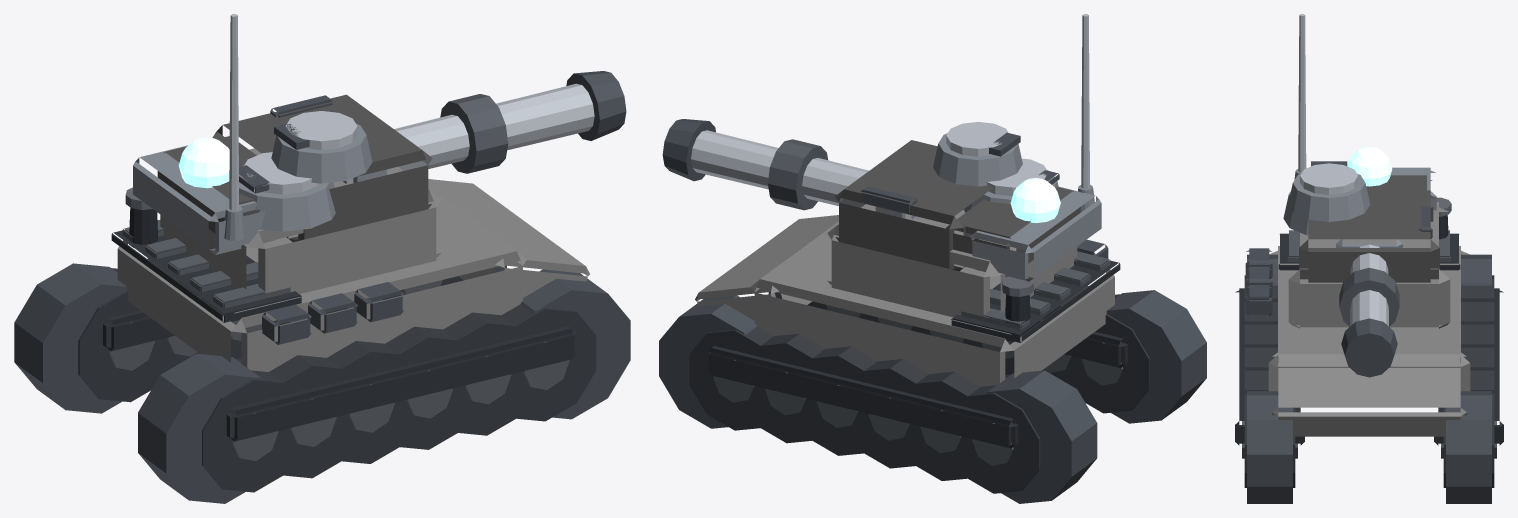
File: con_commander.glb
3 views of the same model, side by side, from view 1: azimuth 30°, elevation 25°; view 2: azimuth 150°, elevation 25°; view 3: azimuth 270°, elevation 25° (orthographic). The views are drawn at different scales.
Parts seen in each view (by area): view 1: body, turret; view 2: body, turret; view 3: body, turret.
Part boxes in pixels (bbox=[...]): body: bbox=[14, 14, 630, 503]; turret: bbox=[157, 71, 626, 242]; body: bbox=[659, 14, 1206, 503]; turret: bbox=[662, 119, 1079, 271]; body: bbox=[1235, 14, 1503, 503]; turret: bbox=[1288, 161, 1439, 377].
Bounding box in the file's own units: 57.71 × 47.96 × 32.
